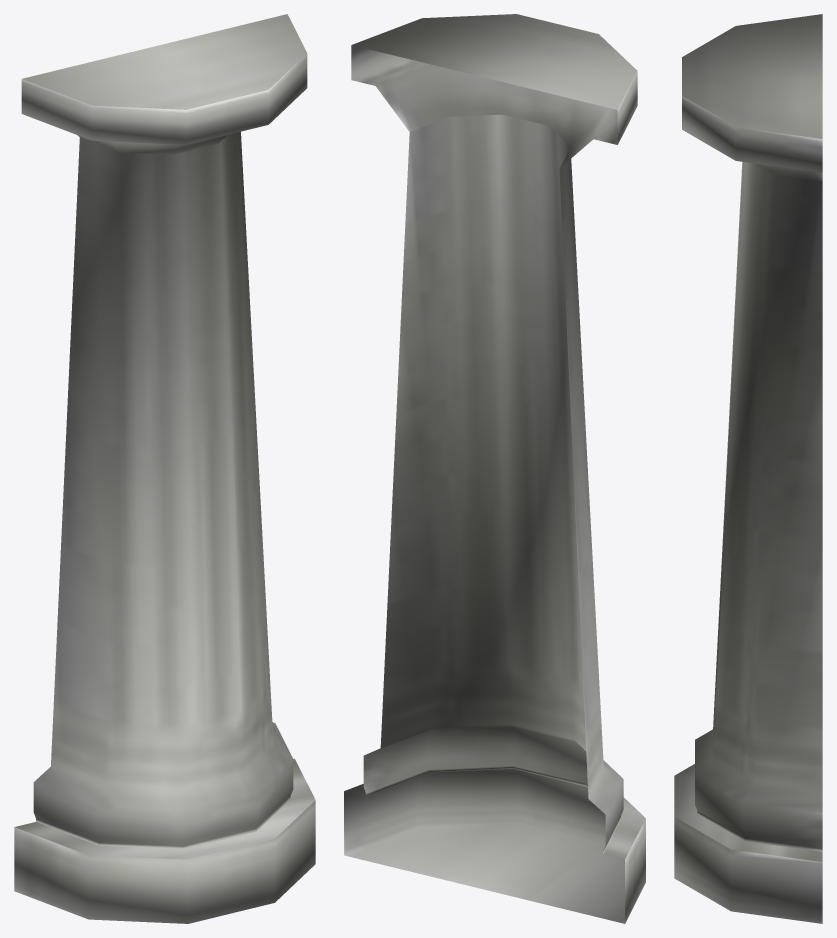
File: plant_pillar.FBX
The picture shows the model from 3 angles, left to right: view 1: azimuth 30°, elevation 25°; view 2: azimuth 150°, elevation 25°; view 3: azimuth 270°, elevation 25°; orthographic projection. The views are drawn at different scales.
Visible parts, largest first — view 1: plant_pillar; view 2: plant_pillar; view 3: plant_pillar.
Boxes of the visible parts, x1=… form: plant_pillar: x1=14, y1=14, x2=315, y2=923; plant_pillar: x1=344, y1=14, x2=645, y2=923; plant_pillar: x1=674, y1=14, x2=822, y2=923.
Bounding box in the file's own units: 42.92 × 118 × 20.41.
